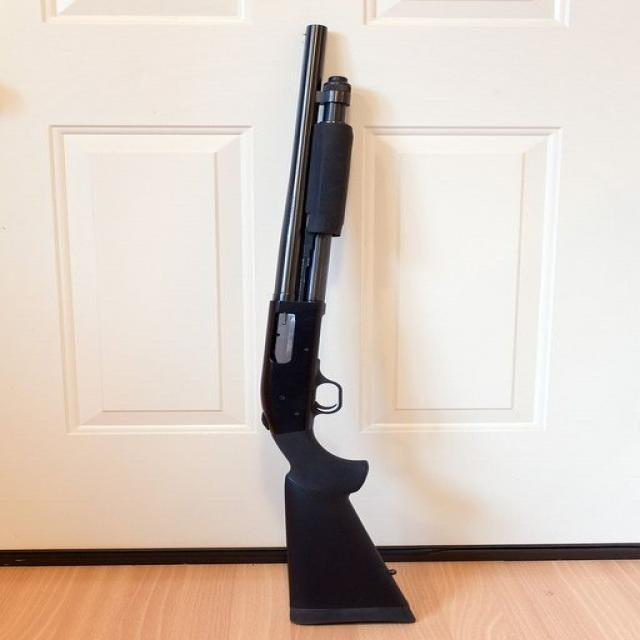shotgun: (262, 14, 423, 624)
